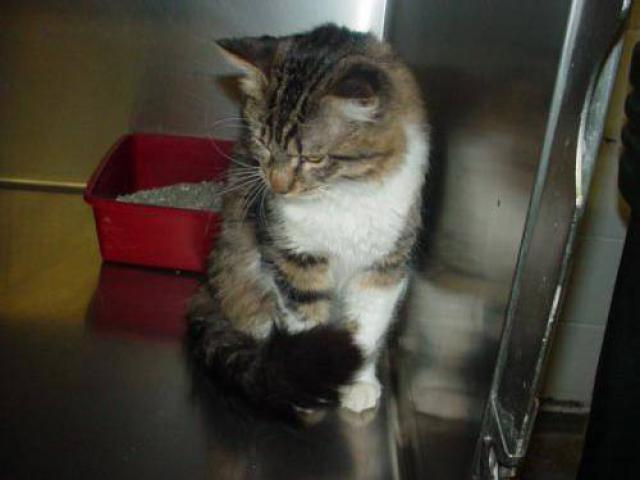cat: (181, 21, 451, 435)
